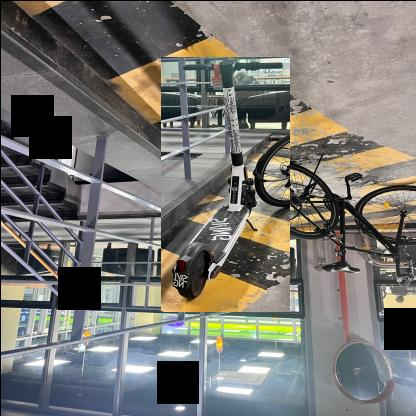kickboard: (160, 56, 289, 311)
